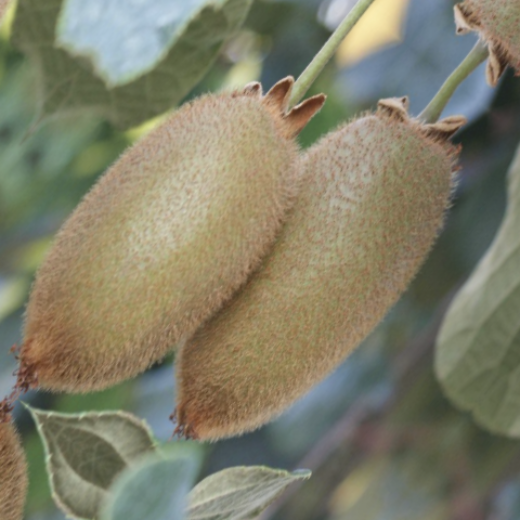kiwi: (110, 56, 518, 497), (0, 11, 374, 460)
